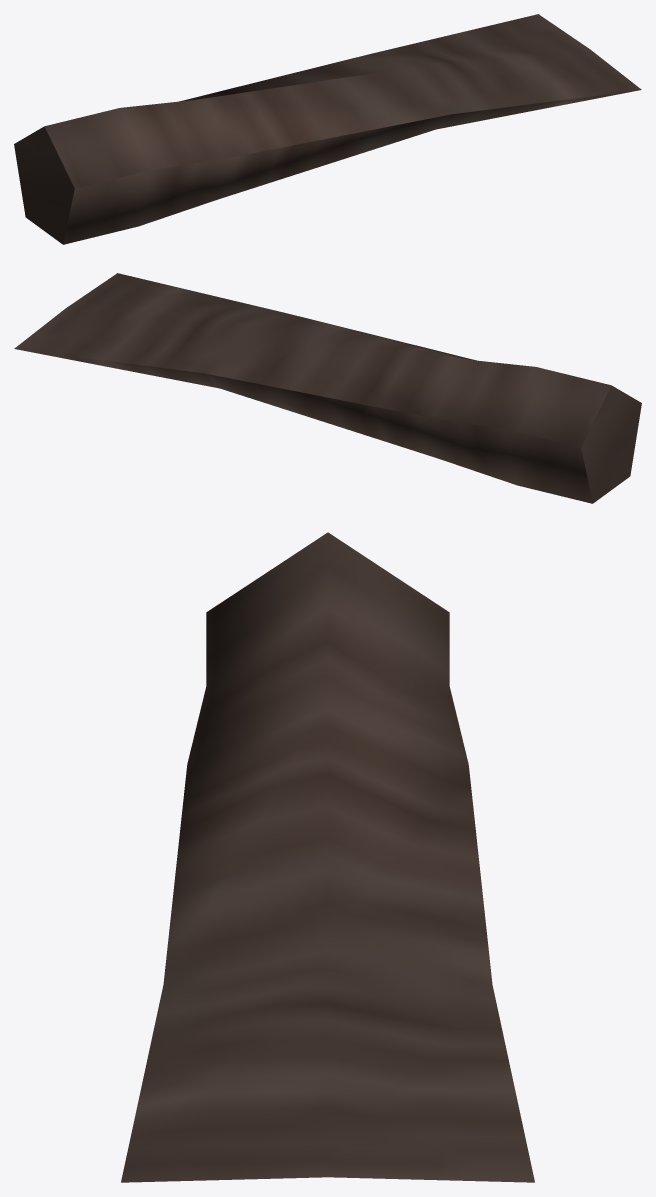
The picture shows the model from 3 angles, top to bottom: view 1: azimuth 30°, elevation 25°; view 2: azimuth 150°, elevation 25°; view 3: azimuth 270°, elevation 25°; orthographic projection. The views are drawn at different scales.
Visible parts, largest first — view 1: toothpaste_03001_Hygiene_0; view 2: toothpaste_03001_Hygiene_0; view 3: toothpaste_03001_Hygiene_0.
Part boxes in pixels (x1,y1,x2,y2): toothpaste_03001_Hygiene_0: (14,14,641,244); toothpaste_03001_Hygiene_0: (14,273,641,503); toothpaste_03001_Hygiene_0: (121,532,534,1182).
Bounding box in the file's own units: 0.2201 × 0.0404 × 0.0723.
1 material, 1 textured.
